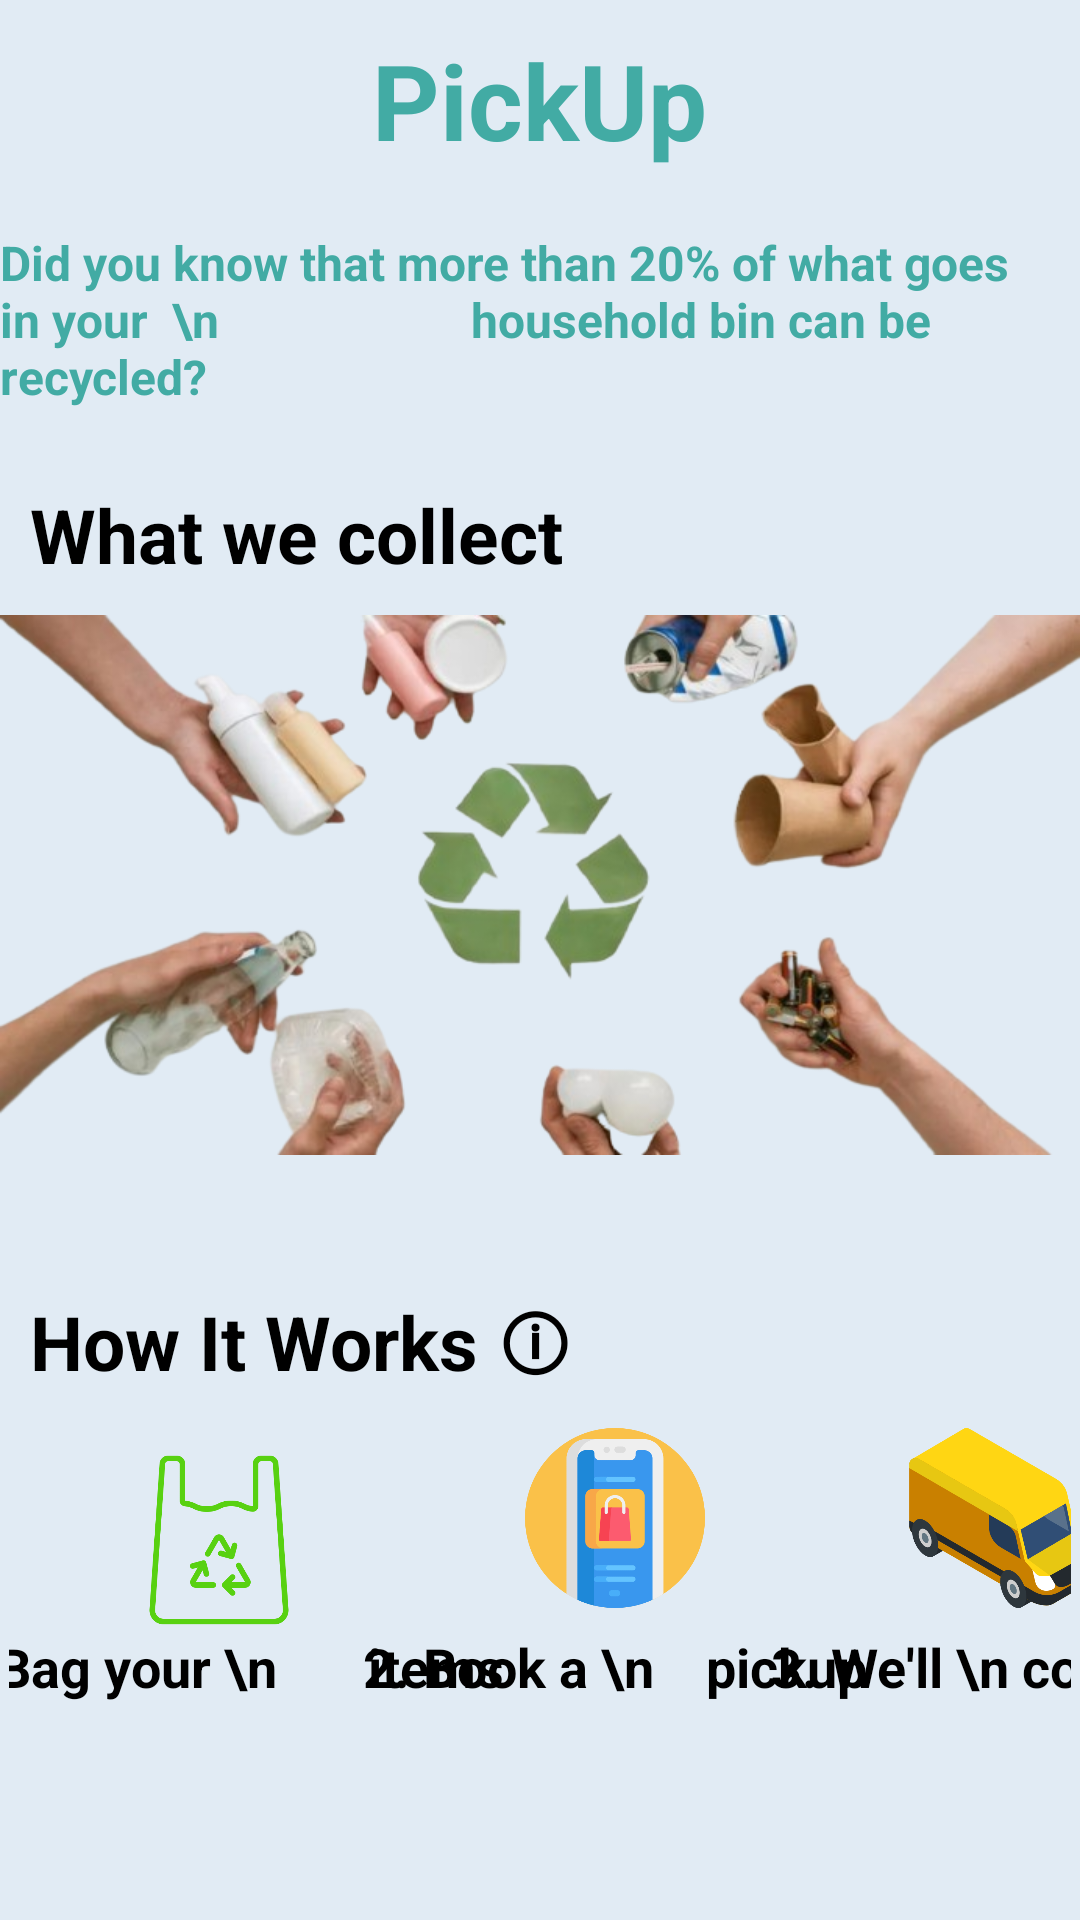

Icon bounding boxes for this 1080x1920 phone screenshot, format (x1, y1, x2, y2):
van: (909, 1428, 1071, 1608)
